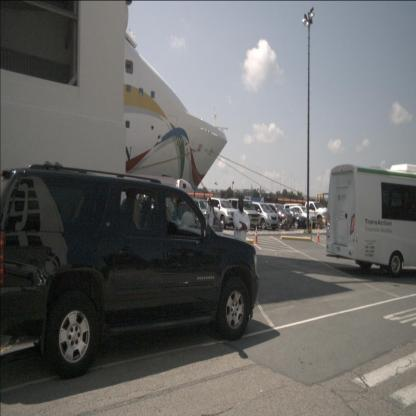cone: (315, 225, 320, 243), (254, 225, 258, 245)
